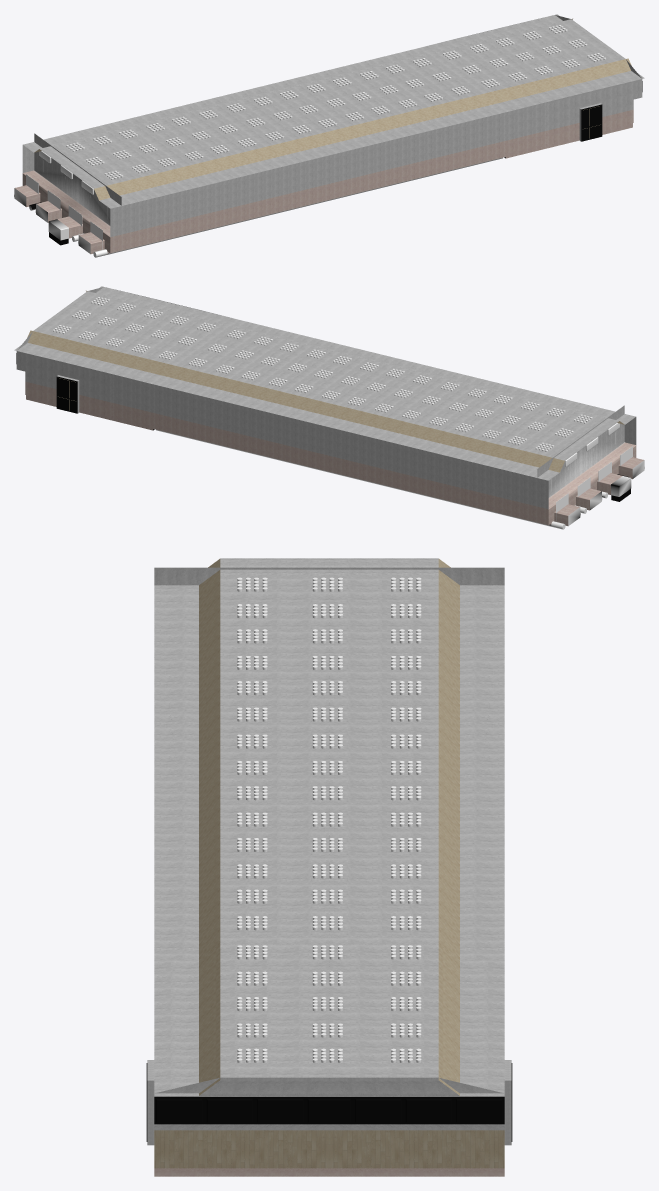
File: BowlingScene.fbx
3 renders of one model, top to bottom at view 1: azimuth 30°, elevation 25°; view 2: azimuth 150°, elevation 25°; view 3: azimuth 270°, elevation 25°, orthographic. The views are drawn at different scales.
Parts seen in each view (by area): view 1: Plane001, Cylinder003; view 2: Plane001, Cylinder003; view 3: Plane001, Cylinder003.
Part boxes in pixels (box(x1,y1,x2,y2)): Plane001: box(14, 14, 644, 257); Cylinder003: box(66, 25, 605, 179); Plane001: box(14, 286, 644, 529); Cylinder003: box(53, 297, 592, 451); Plane001: box(146, 558, 512, 1176); Cylinder003: box(237, 577, 421, 1062).
Size of the model in its own units: 2677 by 277 by 761.
Materials: 12 (3 with a texture image).
